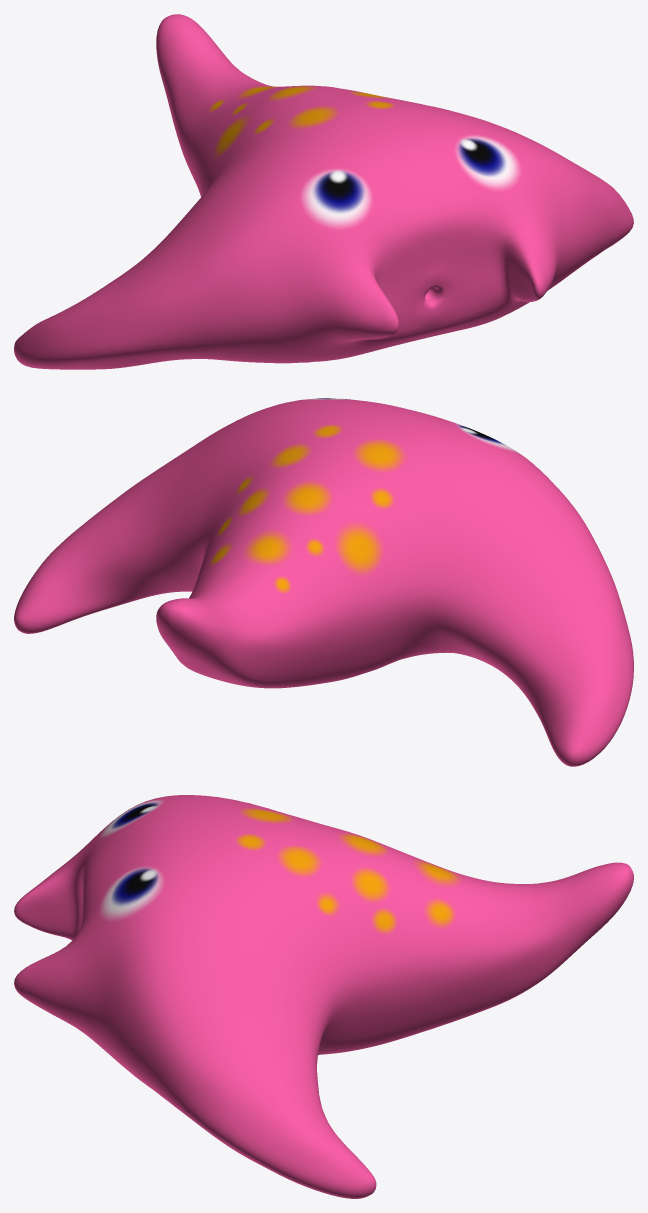
The model's file is igracka2.fbx.
3 renders of one model, top to bottom at view 1: azimuth 30°, elevation 25°; view 2: azimuth 150°, elevation 25°; view 3: azimuth 270°, elevation 25°, orthographic. The views are drawn at different scales.
Parts seen in each view (by area): view 1: Group57337; view 2: Group57337; view 3: Group57337.
Part boxes in pixels (left/top/right/bottom): Group57337: left=14, top=14, right=633, bottom=369; Group57337: left=14, top=398, right=633, bottom=766; Group57337: left=14, top=795, right=633, bottom=1198.
Size of the model in its own units: 1145 by 422 by 1015.
1 material, 1 textured.
